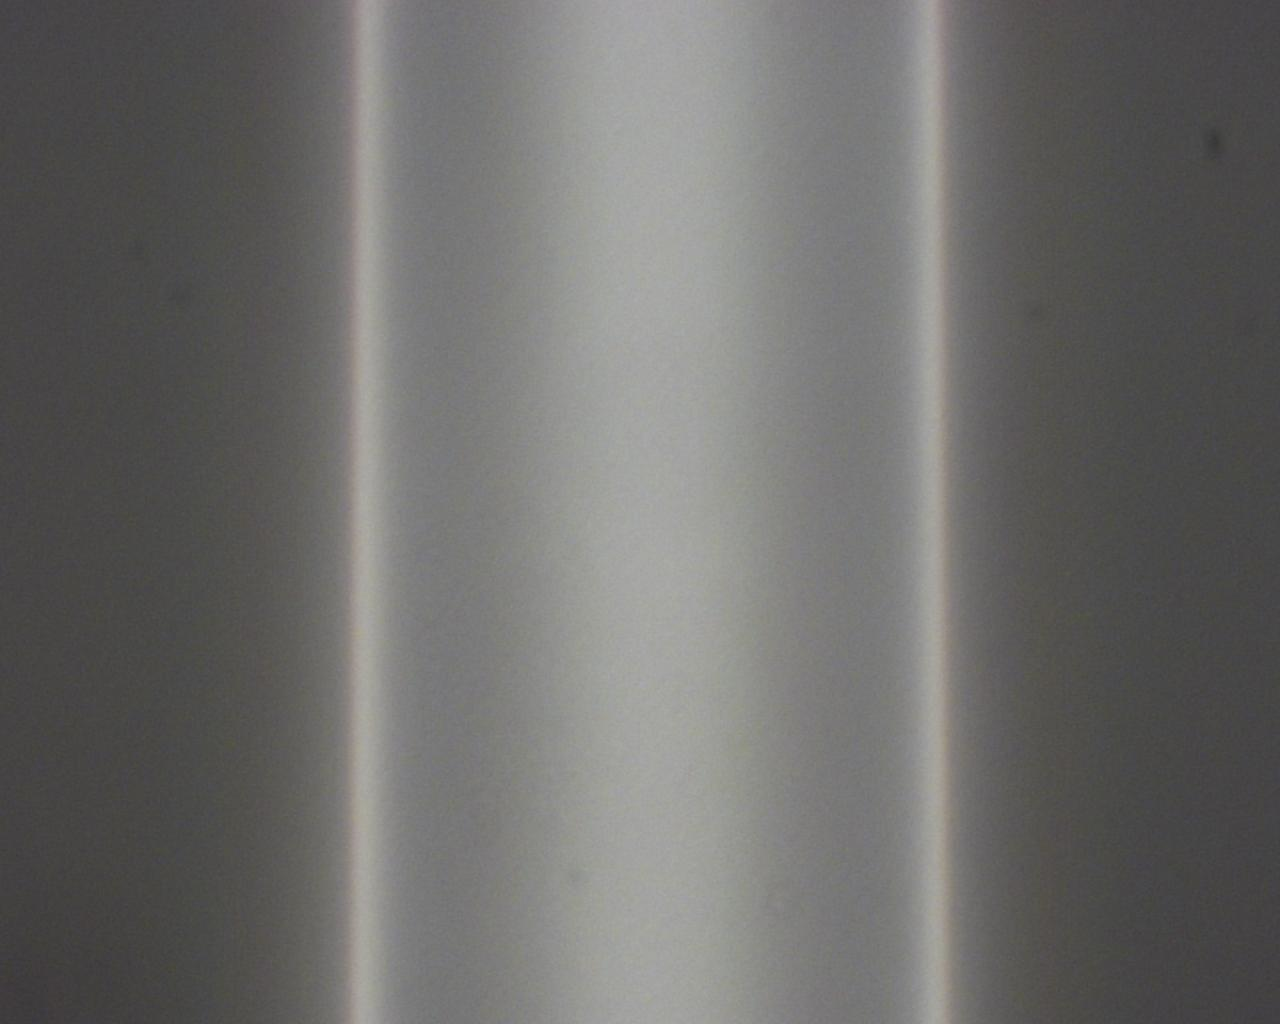fiber: (0, 645, 644, 1024), (131, 0, 266, 323), (691, 137, 1255, 189)
